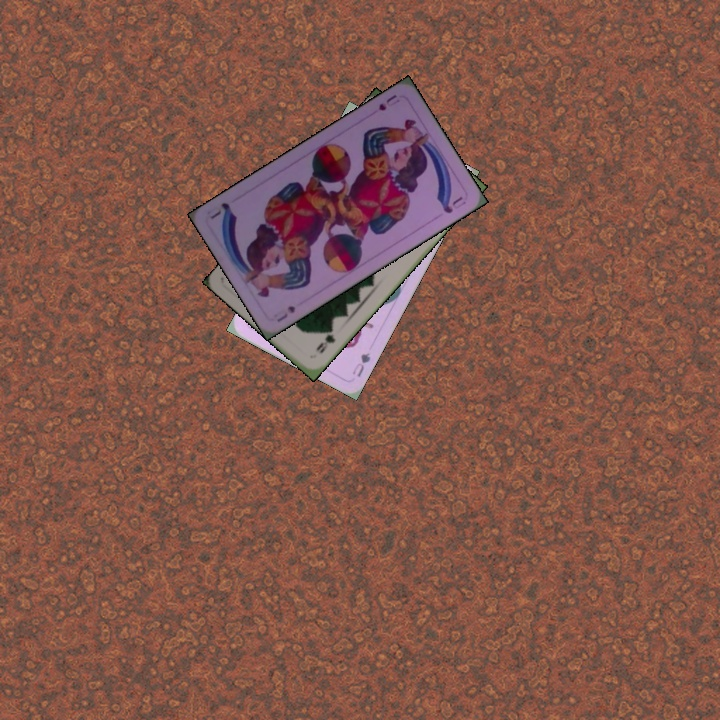G9: (312, 325, 338, 356)
GU: (348, 349, 373, 380)
SU: (374, 90, 402, 114), (273, 302, 298, 324)
